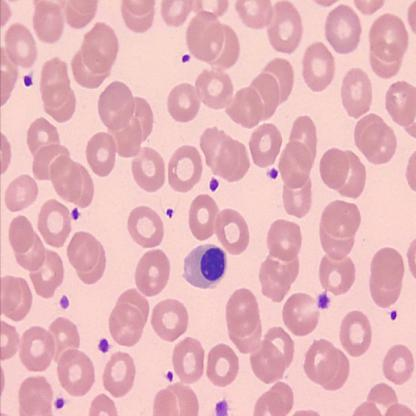NRC: (182, 241, 228, 291)
